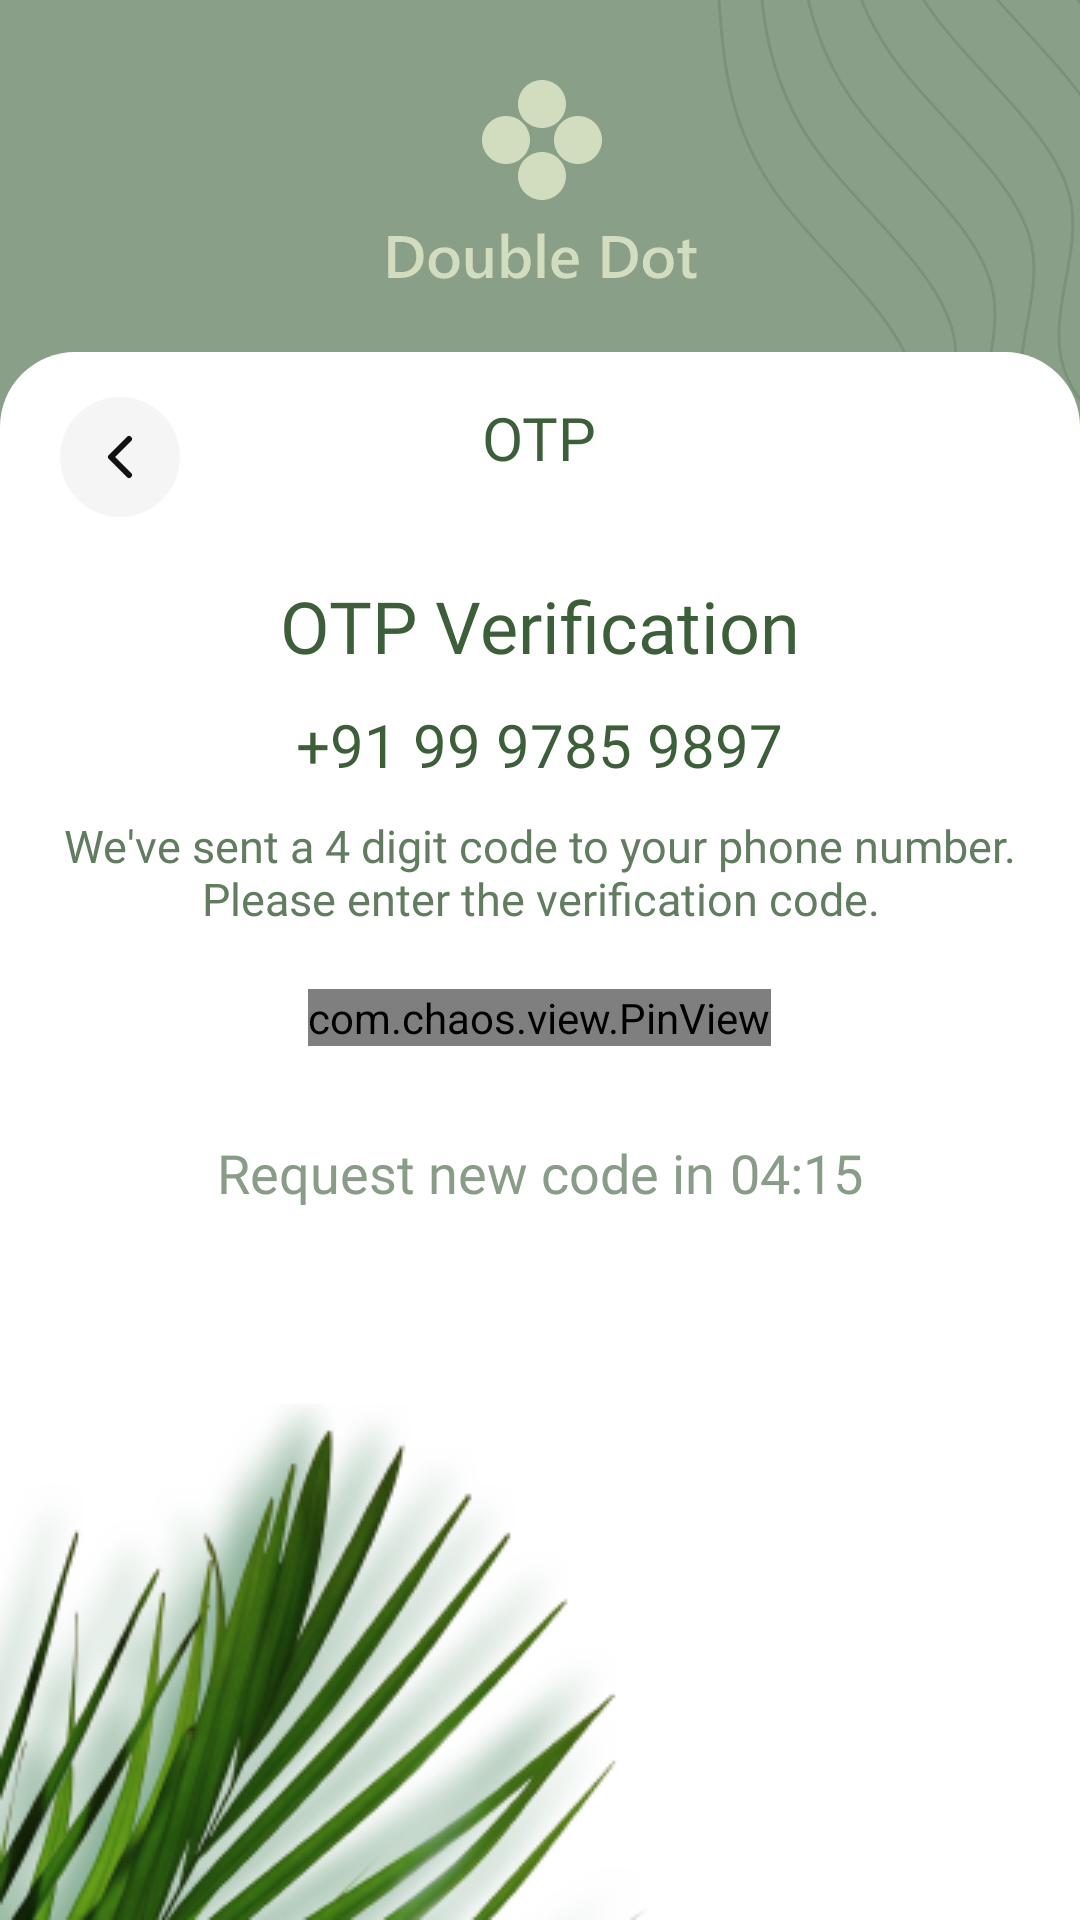

Named icons in this screenshot (1080w x 1920h) and their bounding boxes, bbox(x1, y1, x2, y2):
back arrow: bbox(60, 397, 180, 517)
